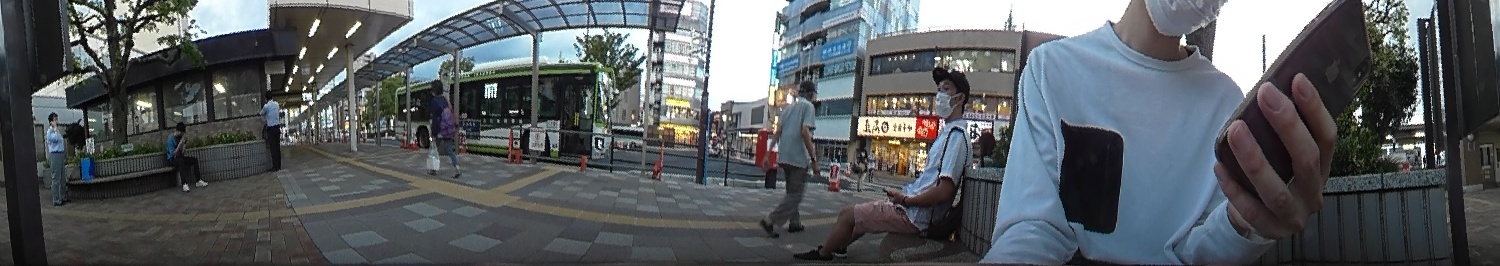difficult_person: (852, 144, 868, 187), (866, 148, 876, 180)
person: (798, 66, 971, 263), (751, 79, 818, 236), (423, 79, 464, 177), (161, 122, 209, 193), (41, 106, 71, 205), (259, 88, 287, 171)
